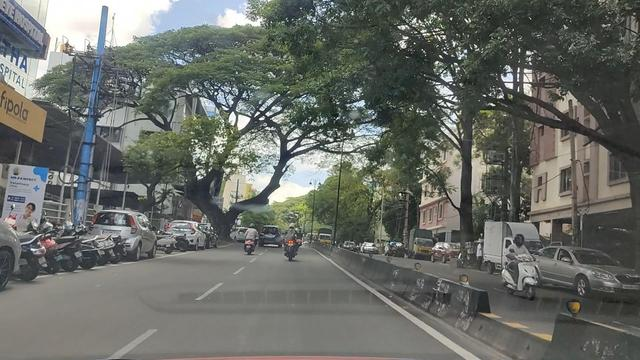LMV: (89, 209, 159, 259), (284, 227, 304, 257), (245, 221, 260, 252)
